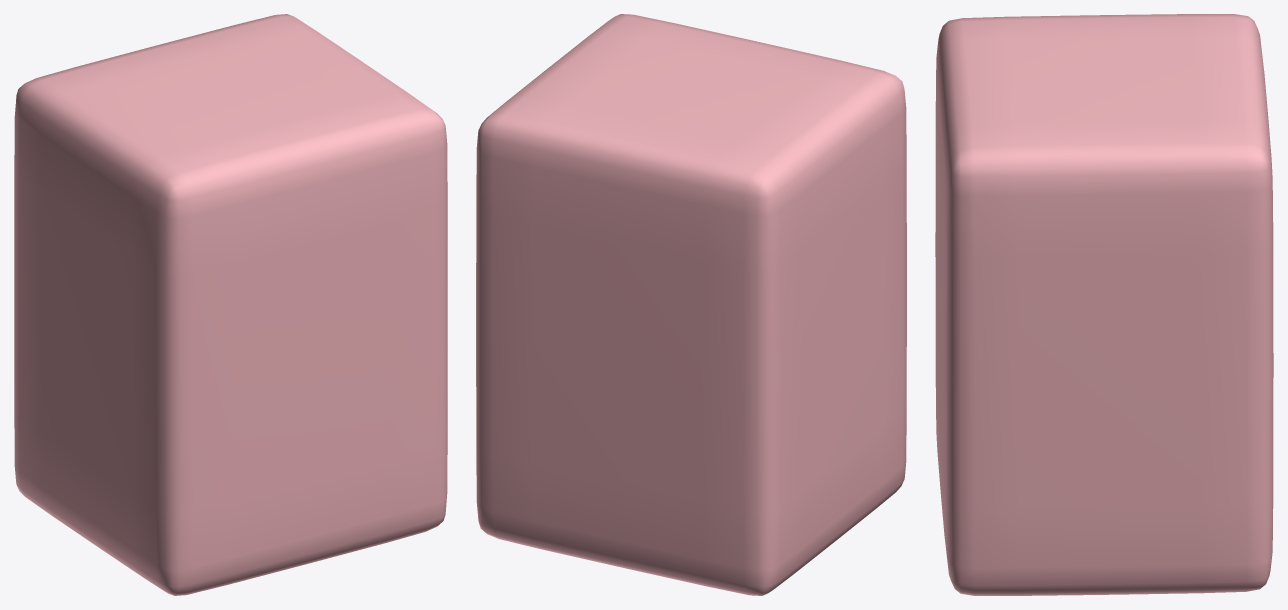
File: PROP_ParkBin_v2.glb
3 renders of one model, left to right at view 1: azimuth 30°, elevation 25°; view 2: azimuth 150°, elevation 25°; view 3: azimuth 270°, elevation 25°, orthographic. The views are drawn at different scales.
Parts seen in each view (by area): view 1: PROP_ParkBin_v2; view 2: PROP_ParkBin_v2; view 3: PROP_ParkBin_v2.
Part boxes in pixels (<box>): PROP_ParkBin_v2: <box>14,14,447,595</box>; PROP_ParkBin_v2: <box>476,14,906,595</box>; PROP_ParkBin_v2: <box>935,14,1273,595</box>.
Bounding box in the file's own units: 0.6375 × 0.8599 × 0.5863.
